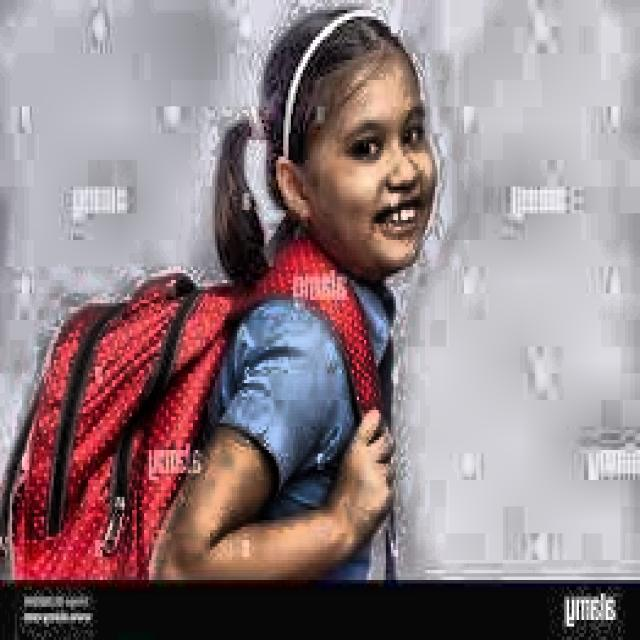Human: (165, 17, 472, 594)
